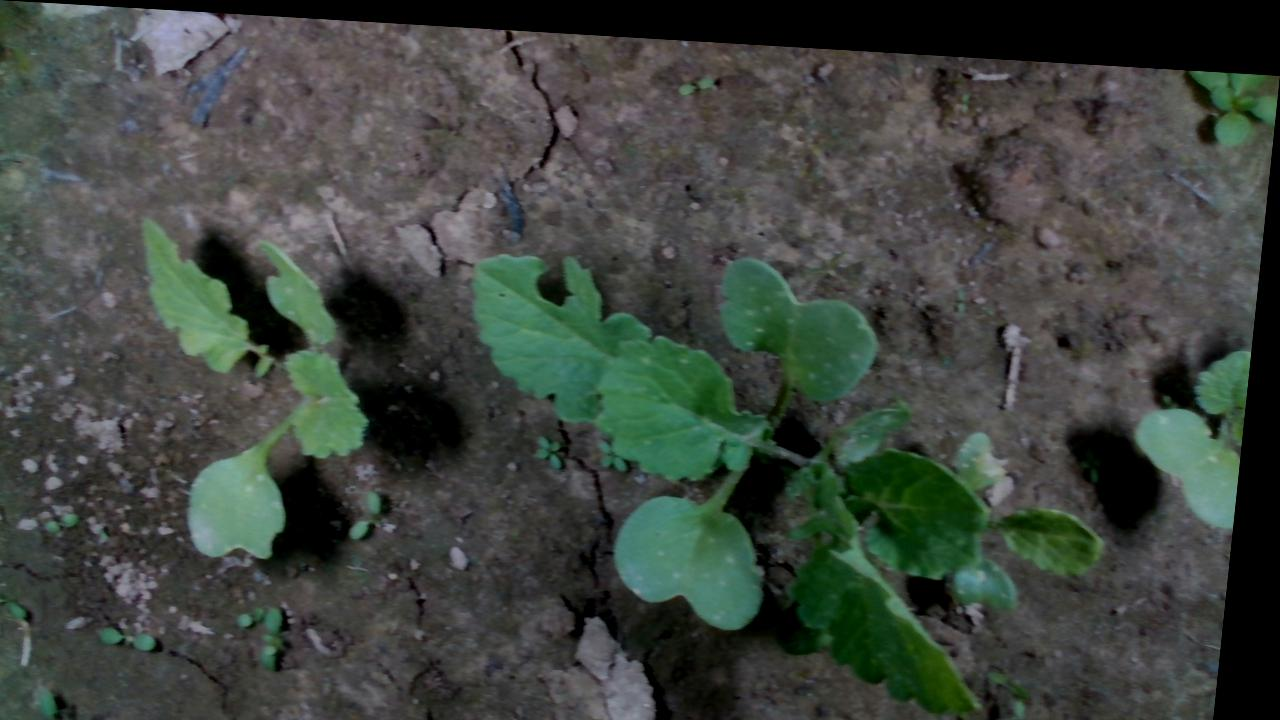weed: (116, 619, 175, 654), (272, 601, 301, 668), (358, 481, 391, 536), (673, 61, 727, 94), (539, 427, 580, 465), (0, 589, 41, 617), (54, 505, 83, 537), (244, 597, 277, 624), (1111, 703, 1165, 719)
